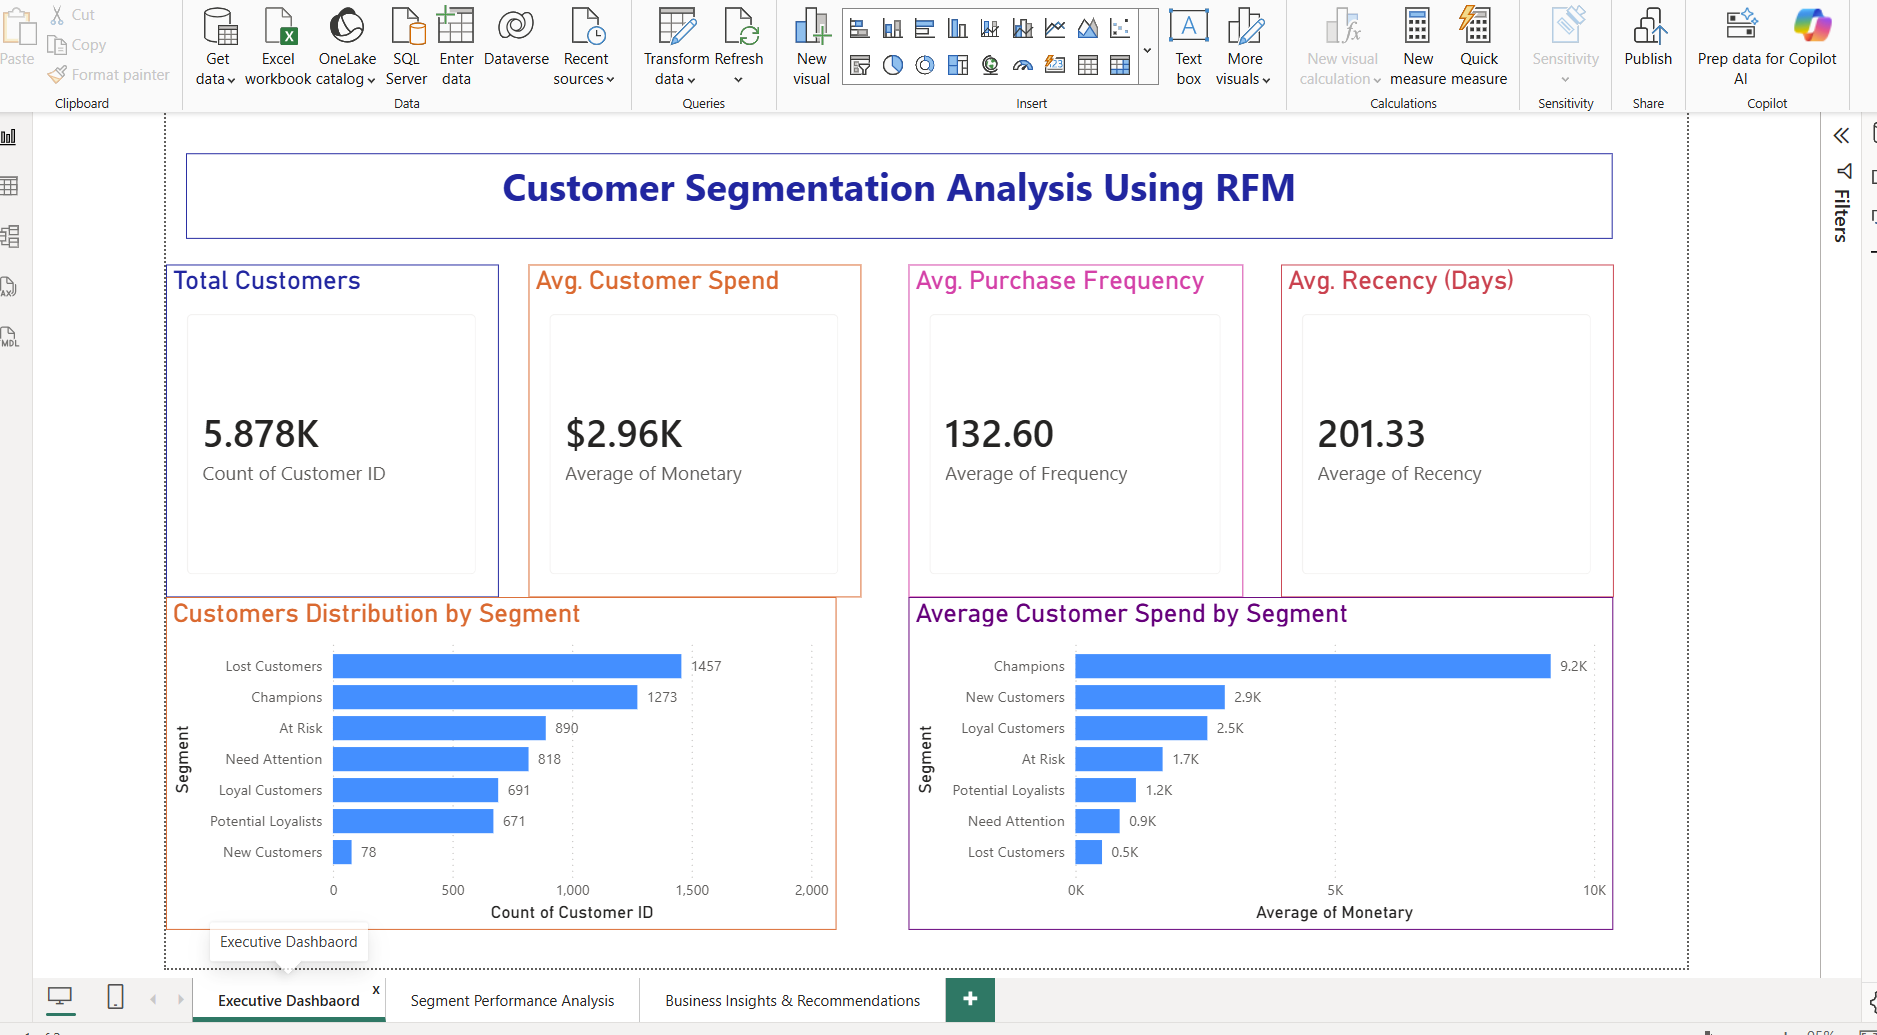

This screenshot's page, from the dashboard's own definition file:
{"tool":"powerbi","page":{"name":"Executive Dashbaord","canvas":[1280,720],"ordinal":0},"visuals":[{"type":"cardVisual","title":"Total Customers","fields":{"Data":["Count(Customer_RFM_Segmentation.Customer ID)"]},"box":[0,128.4,279.9,279.9],"z":0},{"type":"cardVisual","title":"Avg. Customer Spend","fields":{"Data":["Avg(Customer_RFM_Segmentation.Monetary)"]},"box":[304.4,128.4,279.9,279.9],"z":1},{"type":"cardVisual","title":"Avg. Purchase Frequency","fields":{"Data":["Avg(Customer_RFM_Segmentation.Frequency)"]},"box":[624.7,128.4,281.3,279.9],"z":2},{"type":"cardVisual","title":"Avg. Recency (Days)","fields":{"Data":["Avg(Customer_RFM_Segmentation.Recency)"]},"box":[937.8,128.4,279.9,279.9],"z":3},{"type":"textbox","box":[0,418,280,280],"z":4},{"type":"textbox","box":[17.3,34.6,1200.4,72.1],"z":5},{"type":"clusteredBarChart","title":"Customers Distribution  by Segment","fields":{"Category":["Customer_RFM_Segmentation.Segment"],"Y":["Count(Customer_RFM_Segmentation.Customer ID)"]},"box":[0,408.3,564.1,279.9],"z":6},{"type":"clusteredBarChart","title":"Average Customer Spend by Segment","fields":{"Category":["Customer_RFM_Segmentation.Segment"],"Y":["Avg(Customer_RFM_Segmentation.Monetary)"]},"box":[624.7,408.3,593,279.9],"z":7}]}

Visuals, with their boxes on the page's 1280x720 design canvas (x1, y1, x2, y2). These are canvas units, not pixel positions in the 1877x1035 screenshot, which may show the page scaled, cropped or inside an application window:
"Total Customers" cardVisual: Rect(0, 128, 280, 408)
"Avg. Customer Spend" cardVisual: Rect(304, 128, 584, 408)
"Avg. Purchase Frequency" cardVisual: Rect(625, 128, 906, 408)
"Avg. Recency (Days)" cardVisual: Rect(938, 128, 1218, 408)
textbox: Rect(0, 418, 280, 698)
textbox: Rect(17, 35, 1218, 107)
"Customers Distribution  by Segment" clusteredBarChart: Rect(0, 408, 564, 688)
"Average Customer Spend by Segment" clusteredBarChart: Rect(625, 408, 1218, 688)
